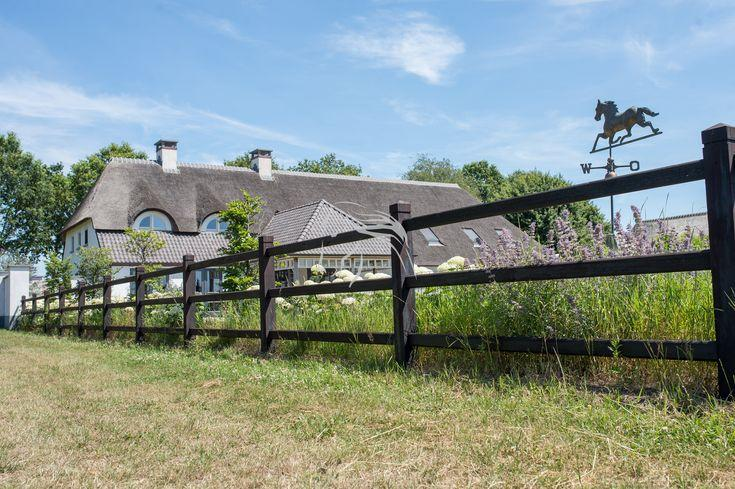obstacle: (231, 104, 735, 373)
